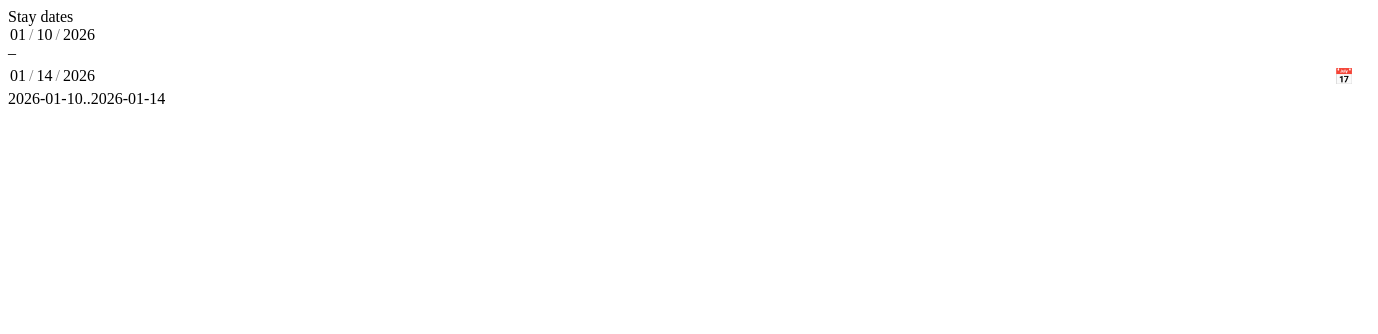
Test case: DateRangePicker › shows the shared range as a band with two endpoints
The image size is (1378, 334).
Step 1. Click the button named "Open calendar" → (1344, 76), box left=1330, top=62, right=1358, bottom=90
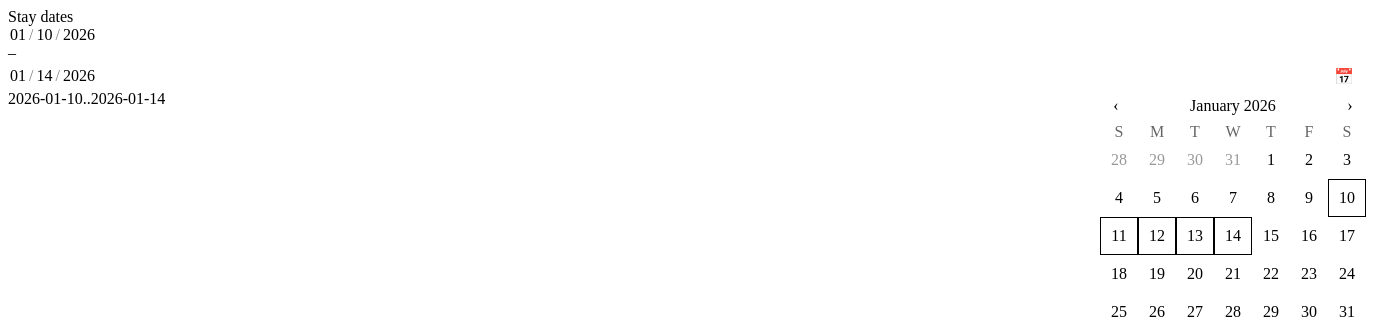
expect the button with class "sve-range-day" reads "10": met, box left=1328, top=179, right=1366, bottom=217
expect the button with class "sve-range-day" reads "14": met, box left=1214, top=217, right=1252, bottom=255
